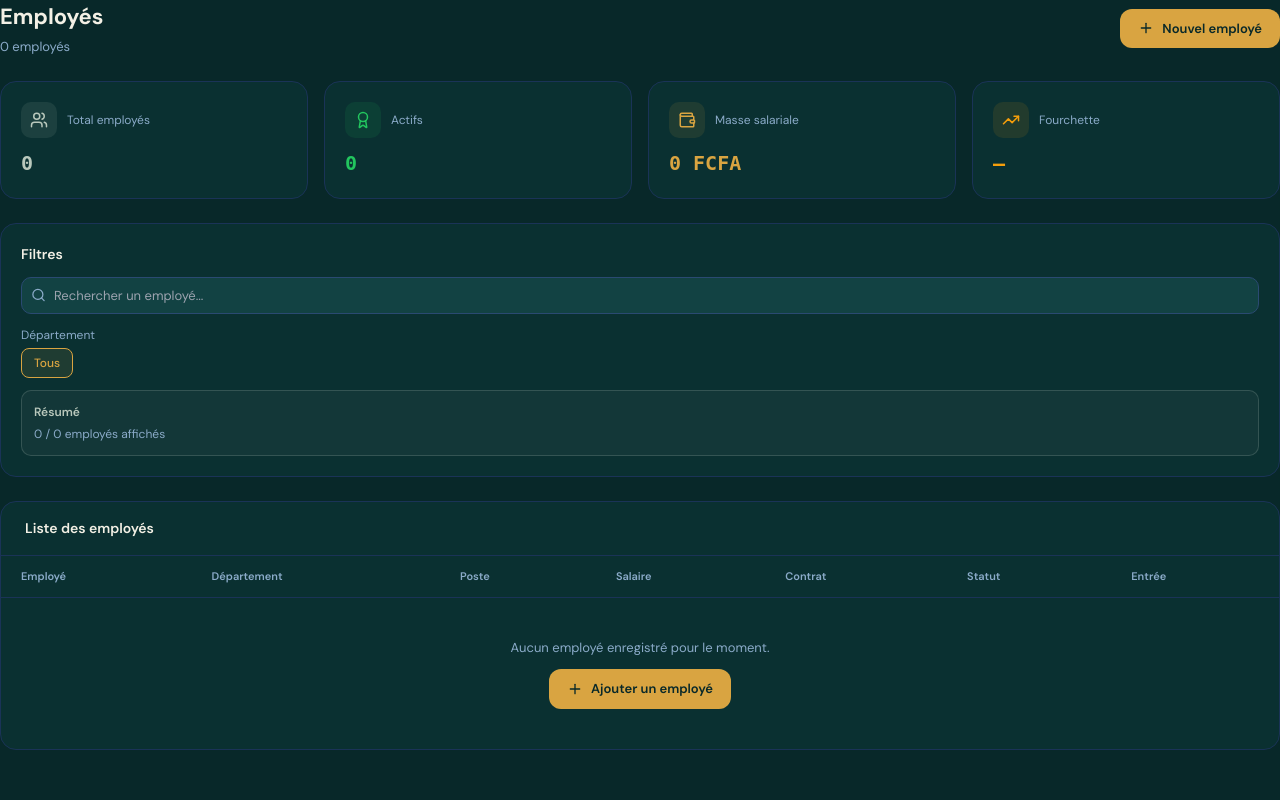
Scenario: EmployesPage › ajout › ouvre puis ferme le formulaire
The width and height of the screenshot is (1280, 800).
Expected: the text "Nom complet *" is not shown
Click the button "Nouvel employé": (1200,28) [1120,8,1279,48]
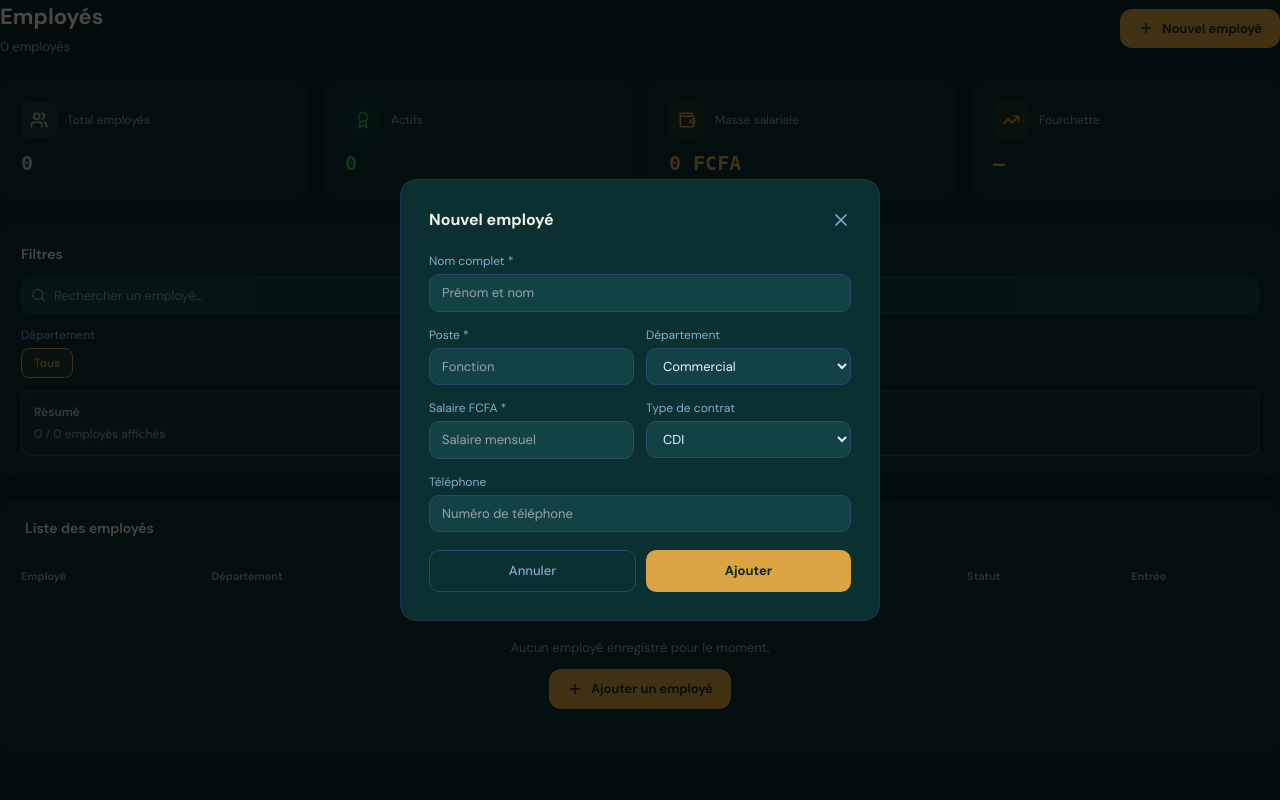
Now the text "Nom complet *" is shown, box [429,253,513,269]
Click the button "Annuler": (532,571) [429,550,636,592]
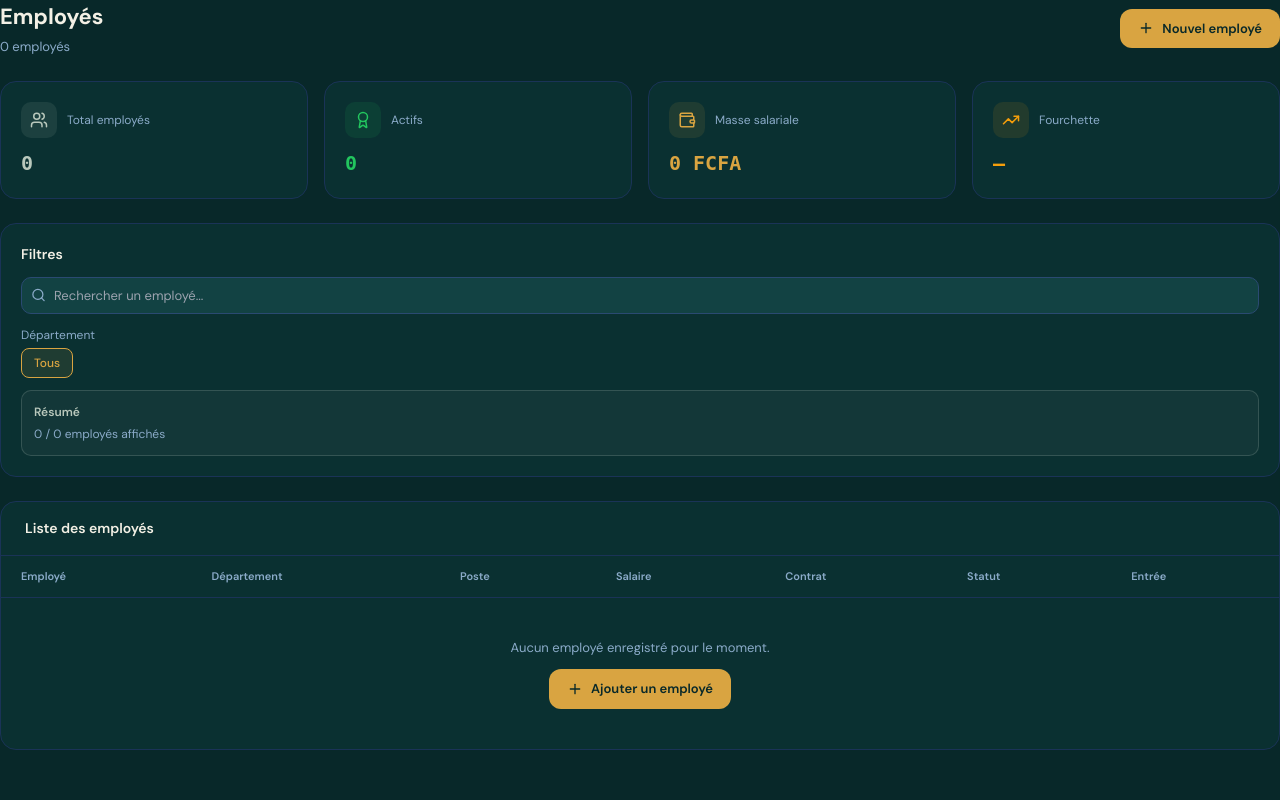
Now the text "Nom complet *" is gone
